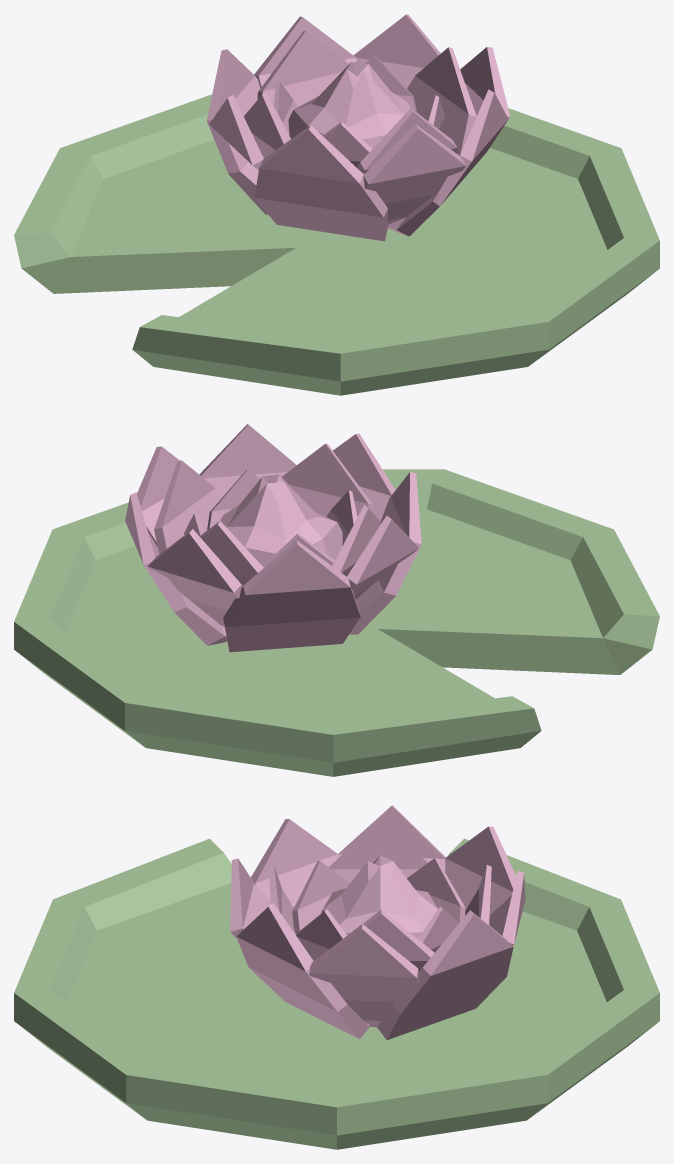
The model's file is LilyPad3.fbx.
The picture shows the model from 3 angles, top to bottom: view 1: azimuth 30°, elevation 25°; view 2: azimuth 150°, elevation 25°; view 3: azimuth 270°, elevation 25°; orthographic projection.
Visible parts, largest first — view 1: LilyPad_with_Flower; view 2: LilyPad_with_Flower; view 3: LilyPad_with_Flower.
Part boxes in pixels (bbox=[...]): LilyPad_with_Flower: bbox=[14, 14, 659, 395]; LilyPad_with_Flower: bbox=[14, 424, 659, 776]; LilyPad_with_Flower: bbox=[14, 805, 659, 1149].
Bounding box in the file's own units: 1.94 × 0.6164 × 1.97.
